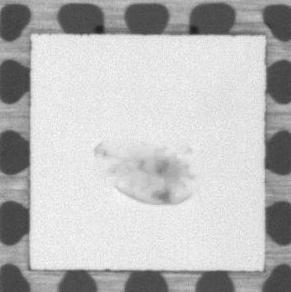DIE_INK: (81, 127, 210, 222)
